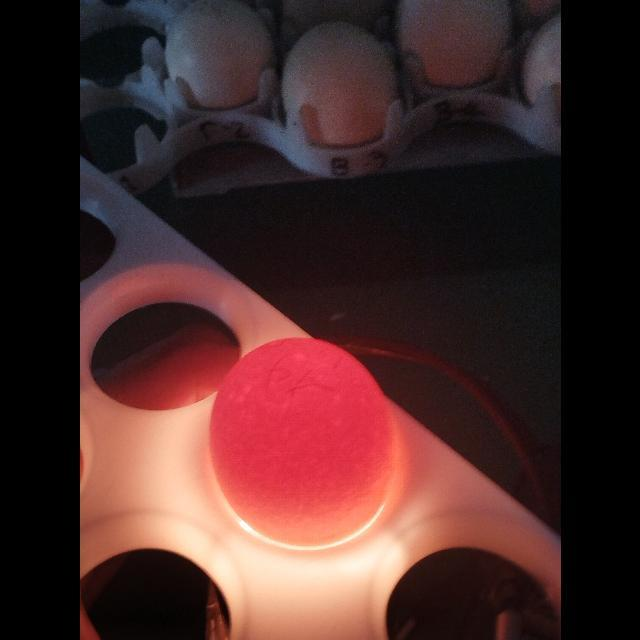Infertile: (205, 332, 398, 534)
